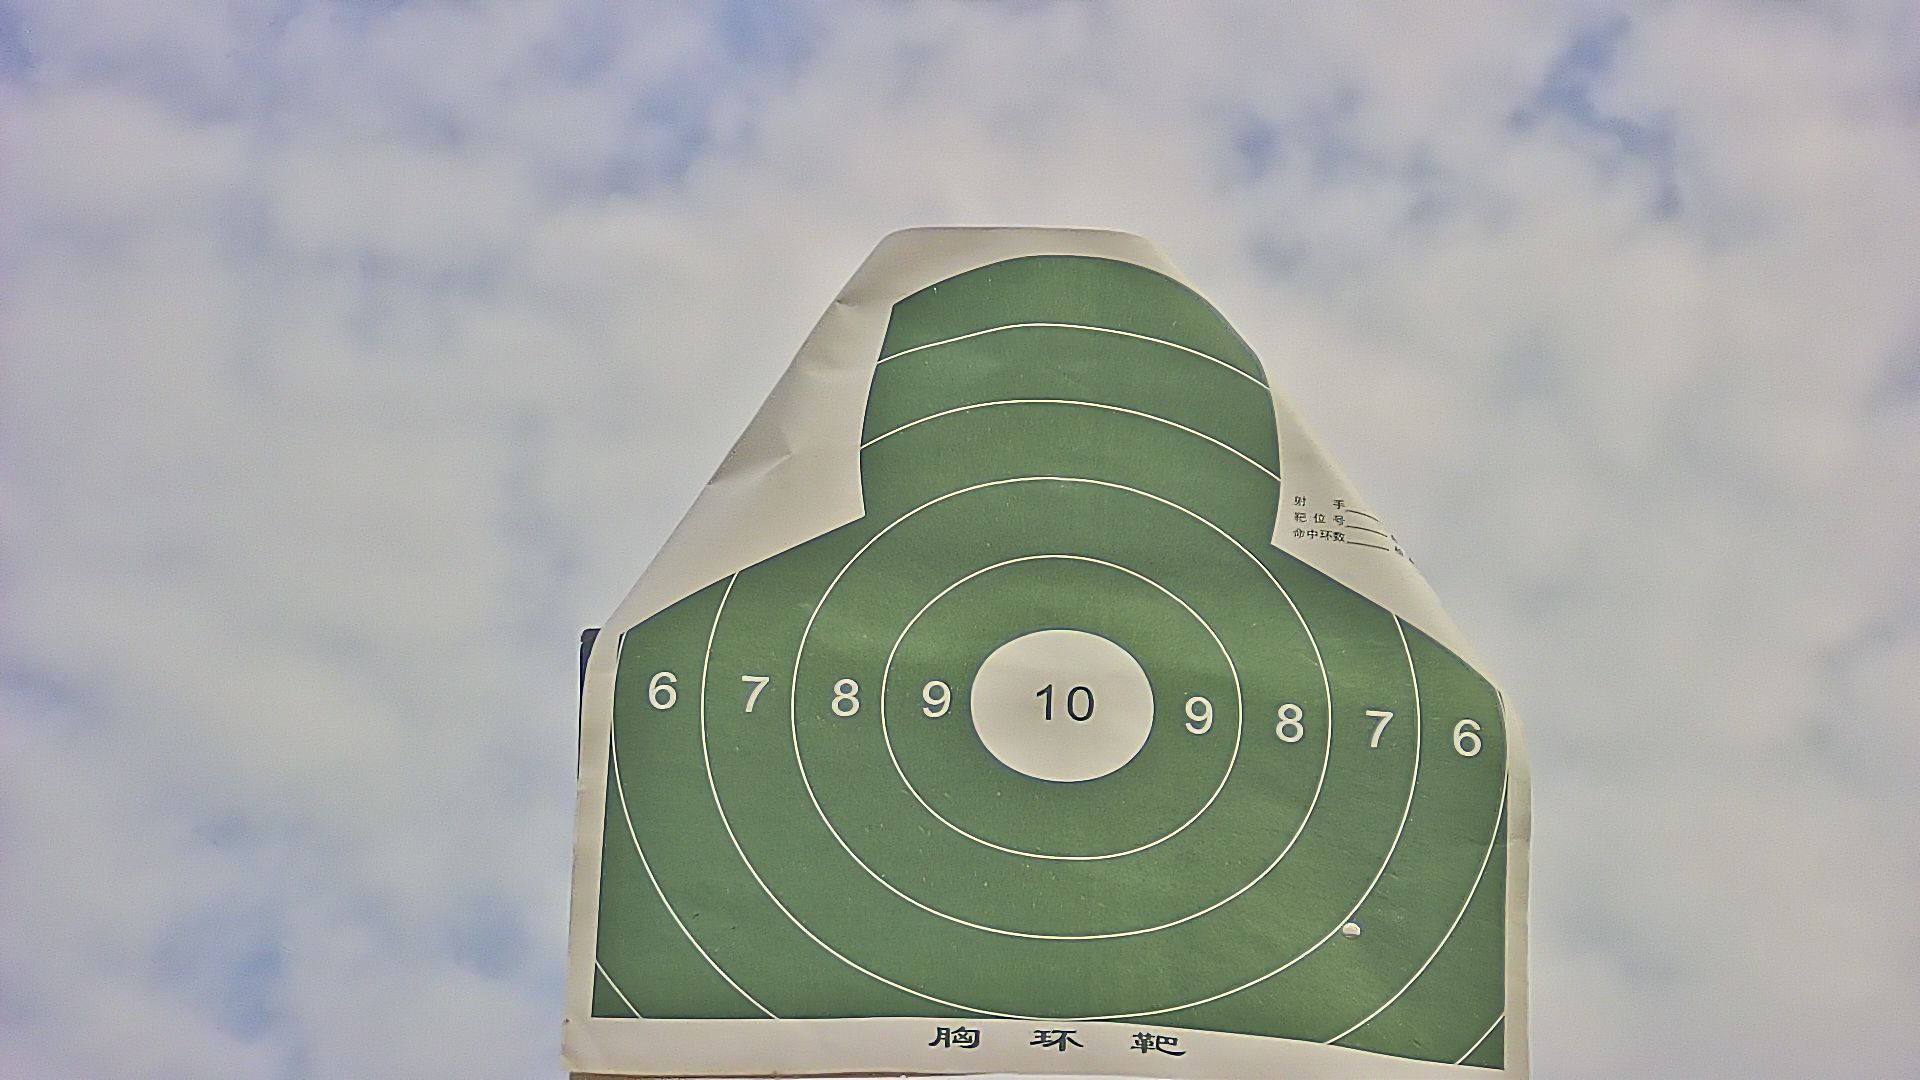kernel: (1059, 705, 1062, 708)
target: (585, 255, 1516, 1077)
ten: (967, 626, 1156, 785)
